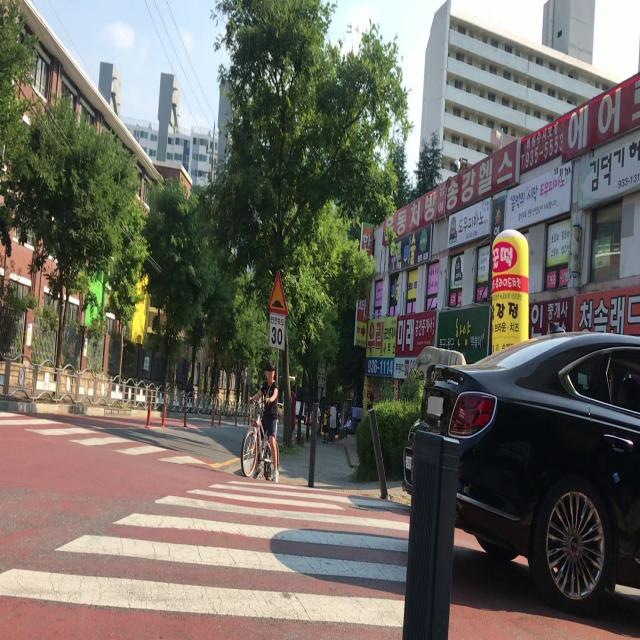횡단보도: (0, 474, 413, 632), (0, 410, 212, 468)
